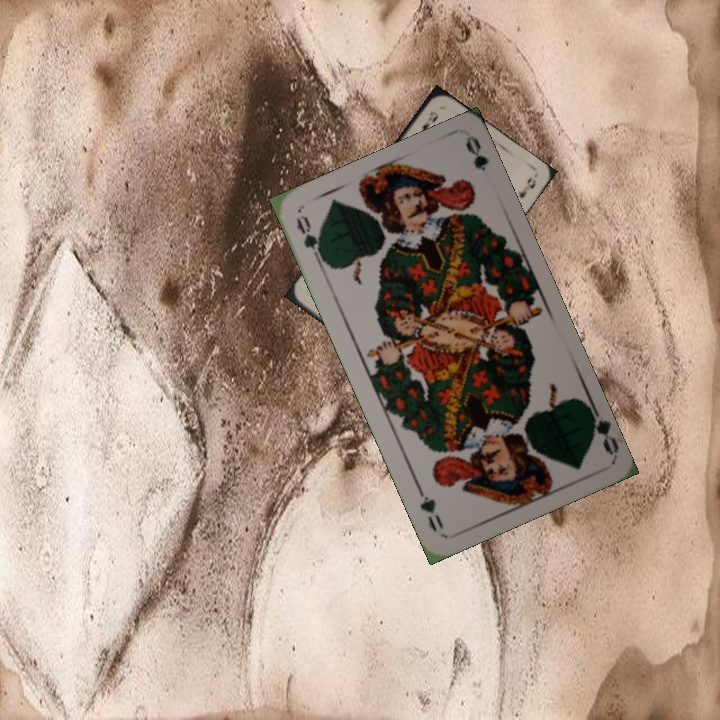E9: (418, 108, 441, 134)
GO: (582, 399, 620, 457), (292, 211, 329, 268)
